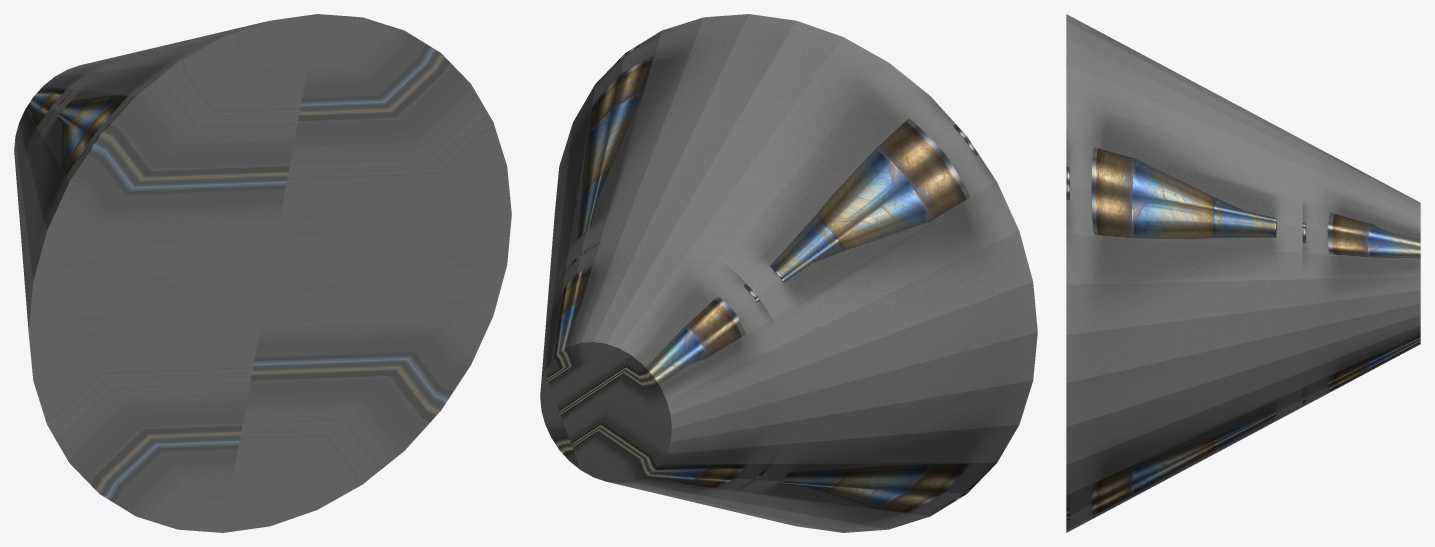
File: engine_bell.glb
3 renders of one model, left to right at view 1: azimuth 30°, elevation 25°; view 2: azimuth 150°, elevation 25°; view 3: azimuth 270°, elevation 25°, orthographic. The views are drawn at different scales.
Visible parts, largest first — view 1: Cone; view 2: Cone; view 3: Cone.
Boxes of the visible parts, left/top/right/bottom form: Cone: left=14, top=14, right=511, bottom=532; Cone: left=540, top=14, right=1037, bottom=532; Cone: left=1066, top=14, right=1420, bottom=532.
Bounding box in the file's own units: 0.44 × 0.44 × 0.3.
1 material, 1 textured.
